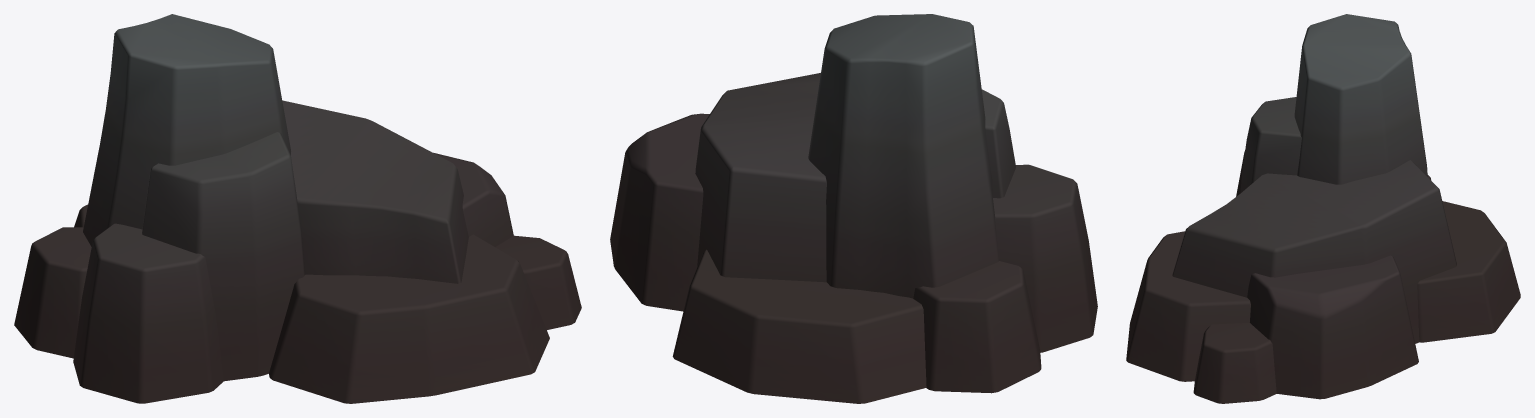
File: inferno-cliff-004.glb
The picture shows the model from 3 angles, left to right: view 1: azimuth 30°, elevation 25°; view 2: azimuth 150°, elevation 25°; view 3: azimuth 270°, elevation 25°; orthographic projection. The views are drawn at different scales.
Parts seen in each view (by area): view 1: Cliff_004; view 2: Cliff_004; view 3: Cliff_004.
Boxes of the visible parts, x1=… form: Cliff_004: x1=14, y1=14, x2=581, y2=403; Cliff_004: x1=610, y1=14, x2=1097, y2=403; Cliff_004: x1=1126, y1=14, x2=1520, y2=403.
Bounding box in the file's own units: 233 × 141 × 210.
Materials: 1 (1 with a texture image).
